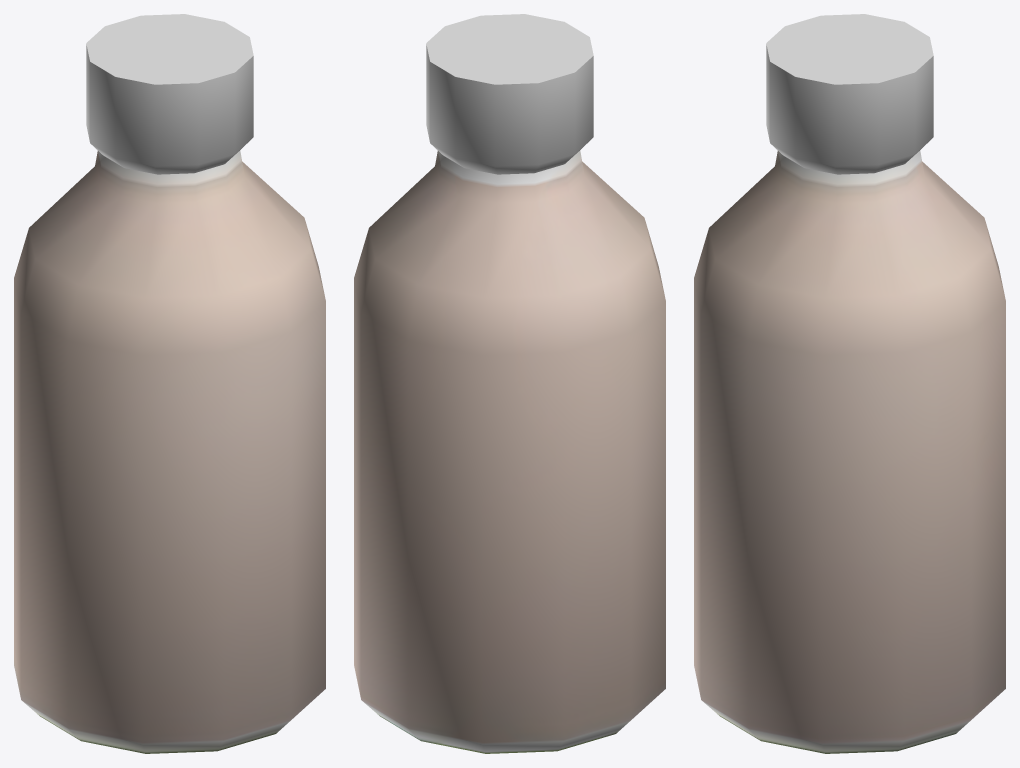
The model's file is SM_drink_soda_03.fbx.
3 renders of one model, left to right at view 1: azimuth 30°, elevation 25°; view 2: azimuth 150°, elevation 25°; view 3: azimuth 270°, elevation 25°, orthographic.
Parts seen in each view (by area): view 1: Cylinder006; view 2: Cylinder006; view 3: Cylinder006.
Part boxes in pixels (x1=…): Cylinder006: x1=14, y1=14, x2=325, y2=753; Cylinder006: x1=354, y1=14, x2=665, y2=753; Cylinder006: x1=694, y1=14, x2=1005, y2=753.
Bounding box in the file's own units: 8.86 × 20.28 × 8.86.
